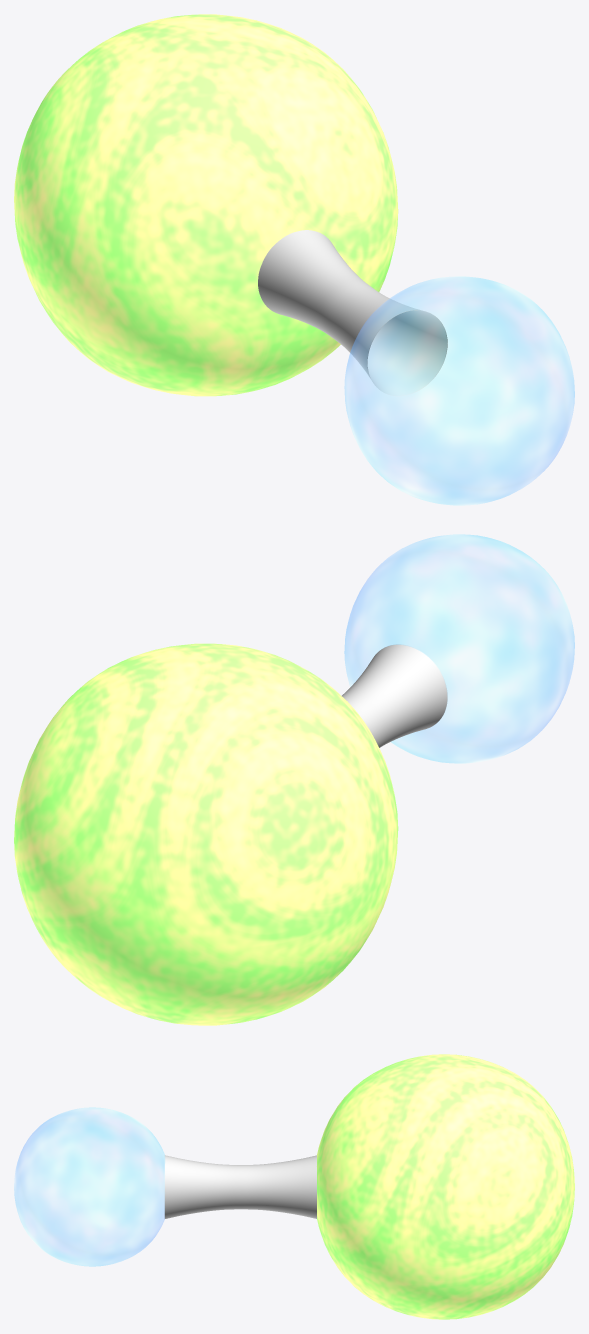
3 views of the same model, one above another, from view 1: azimuth 30°, elevation 25°; view 2: azimuth 150°, elevation 25°; view 3: azimuth 270°, elevation 25° (orthographic). The views are drawn at different scales.
Visible parts, largest first — view 1: jednosytne_kyseliny; view 2: jednosytne_kyseliny; view 3: jednosytne_kyseliny.
Part boxes in pixels (x1,y1,x2,y2): jednosytne_kyseliny: (14,14,574,505); jednosytne_kyseliny: (14,534,574,1025); jednosytne_kyseliny: (14,1054,574,1319).
Size of the model in its own units: 2.02 by 2.02 by 4.33.
Materials: 3 (2 with a texture image).
